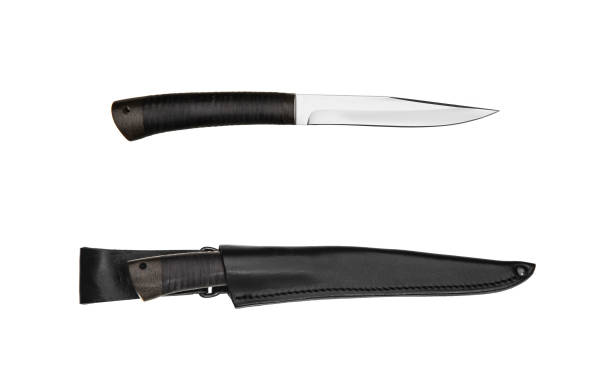knife: (77, 242, 536, 308), (112, 89, 497, 139)
